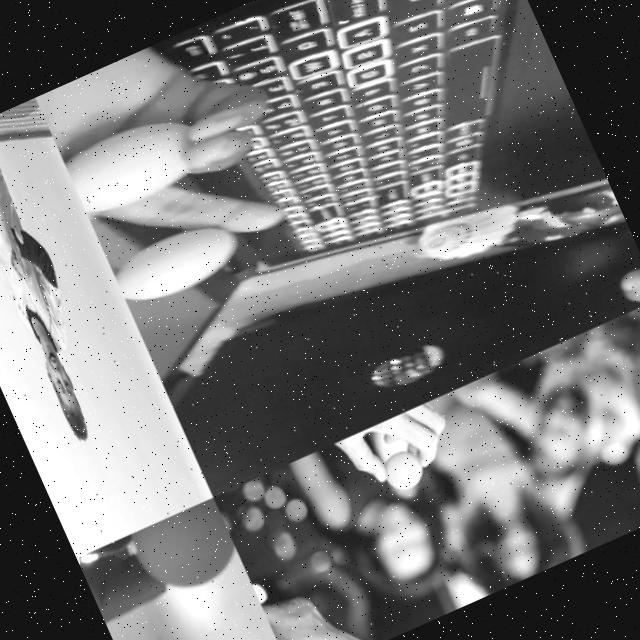ping-pong-ball: (60, 103, 210, 222), (108, 212, 245, 312), (127, 498, 242, 602), (376, 444, 426, 496), (11, 223, 23, 244)
